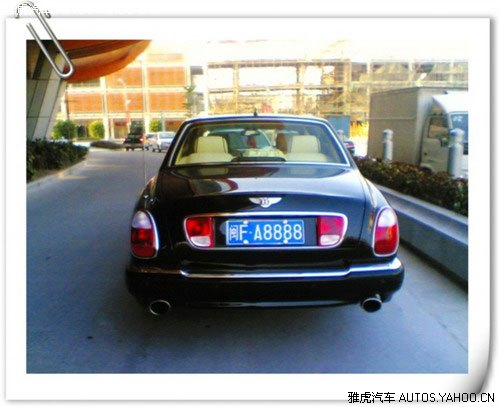plate_number: (225, 218, 306, 248)
